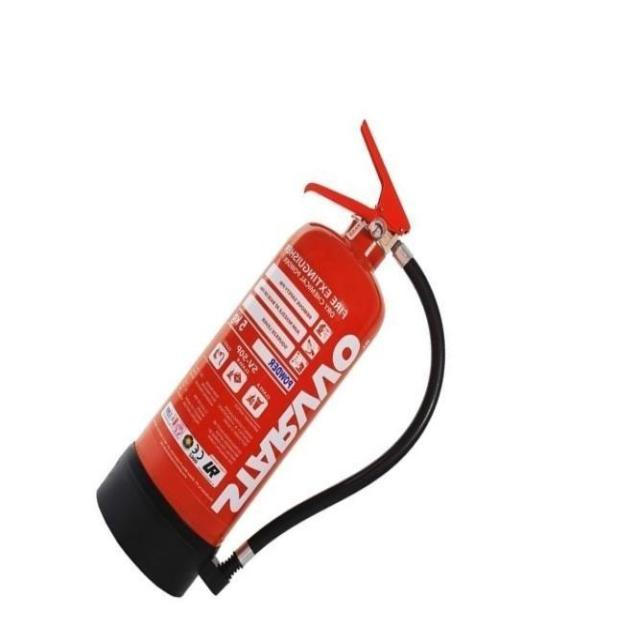fire_extinguisher: (90, 113, 450, 602)
